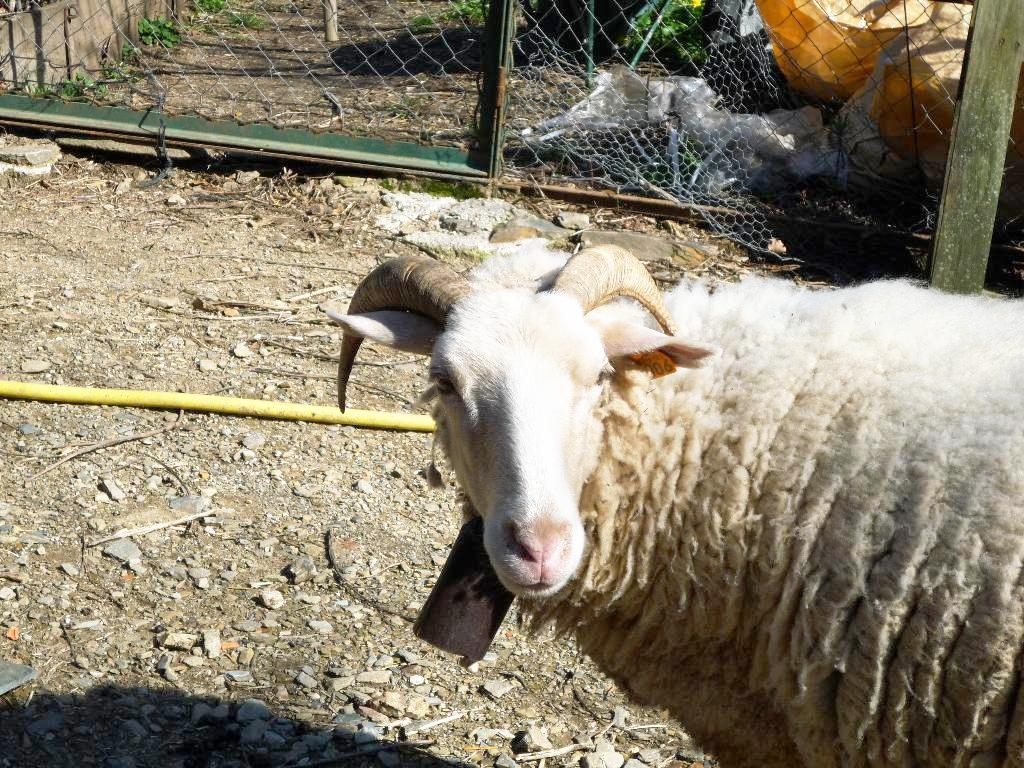Sheep: (326, 238, 1024, 768)
